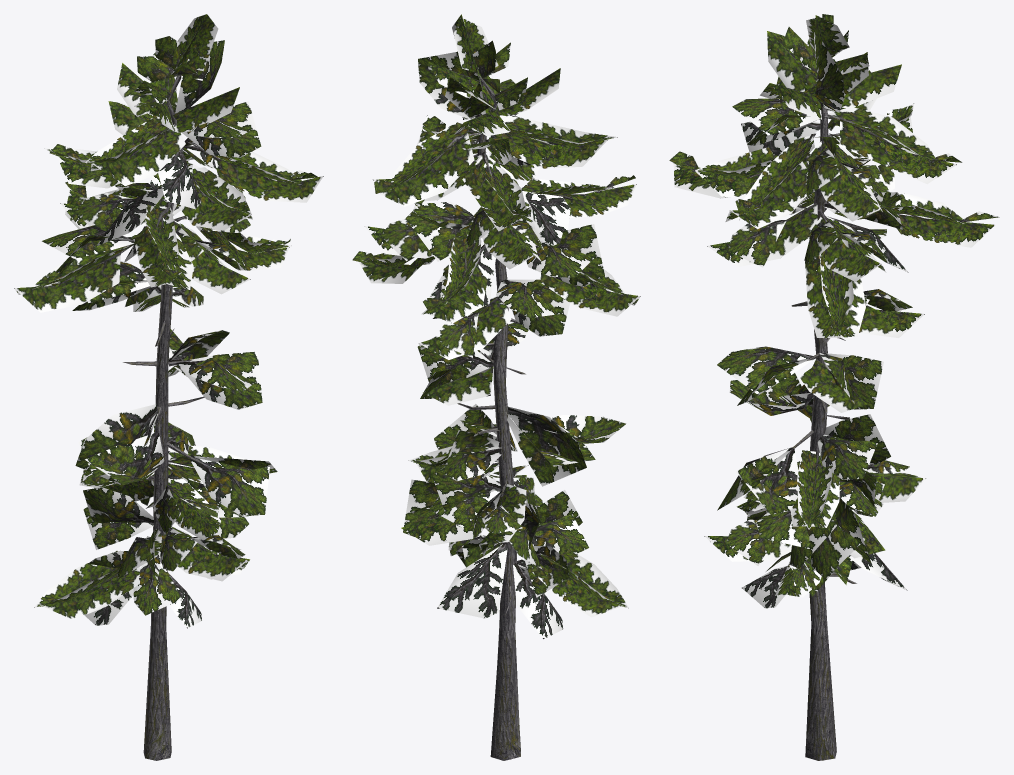
Rendered from Tree.fbx.
3 renders of one model, left to right at view 1: azimuth 30°, elevation 25°; view 2: azimuth 150°, elevation 25°; view 3: azimuth 270°, elevation 25°, orthographic. The views are drawn at different scales.
Parts seen in each view (by area): view 1: LV_BranForest_Tree_Pine01_PM_NWCNIK; view 2: LV_BranForest_Tree_Pine01_PM_NWCNIK; view 3: LV_BranForest_Tree_Pine01_PM_NWCNIK.
Boxes of the visible parts, box(x1,y1,x2,y2) form: LV_BranForest_Tree_Pine01_PM_NWCNIK: box(14, 14, 323, 760); LV_BranForest_Tree_Pine01_PM_NWCNIK: box(352, 14, 640, 760); LV_BranForest_Tree_Pine01_PM_NWCNIK: box(669, 14, 999, 760).
Bounding box in the file's own units: 1.6 × 3.95 × 1.55.
